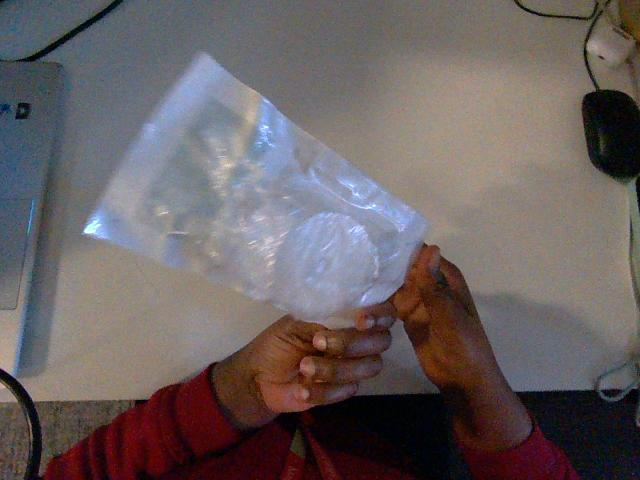gallipot: (85, 54, 426, 320)
